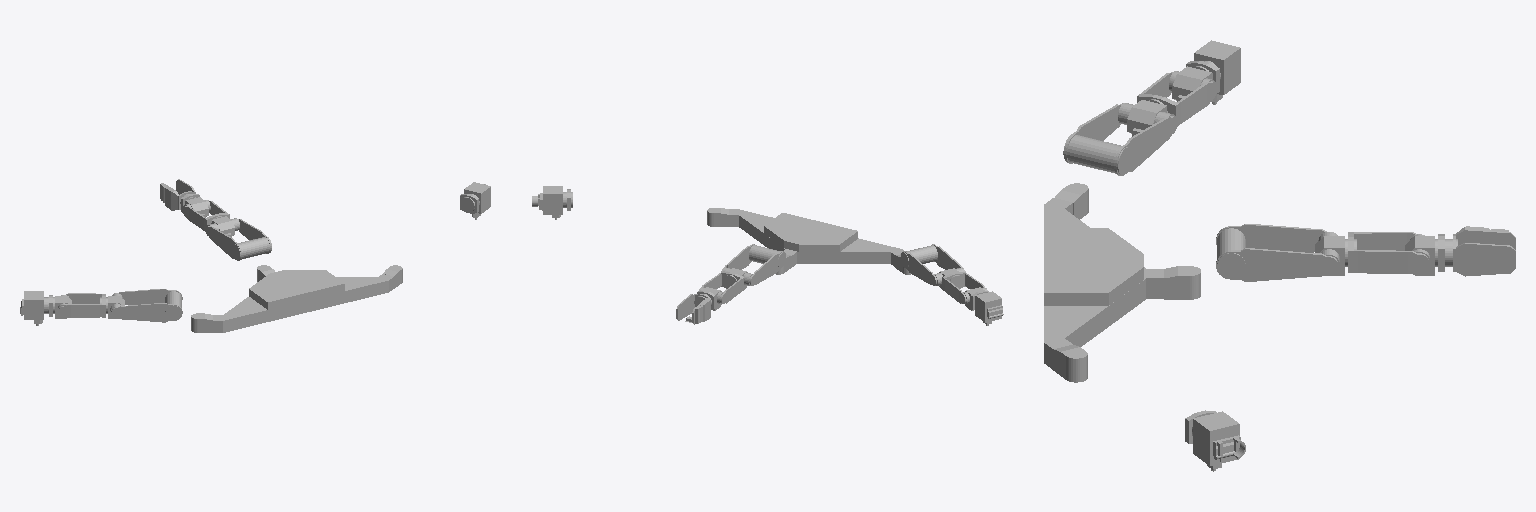
--- Render facts (derived) ---
3 views of the same robot in one strip: view 1: azimuth 30°, elevation 25°; view 2: azimuth 150°, elevation 25°; view 3: azimuth 270°, elevation 25° (orthographic).
Robot: TriATHLETE — 28 links, 27 joints (21 revolute, 6 prismatic); root link Body; default pose: all joints at 0.
Visible links, largest first — view 1: Body, Thigh3, Thigh2, Shin3, Foot3, Foot1, Foot2, Shin2; view 2: Body, Thigh2, Thigh3, Foot2, Foot1, Foot3, Shin3, Shin2; view 3: Body, Thigh2, Thigh3, Foot2, Shin2, Foot1, Foot3, Shin3, Knee3, Ankle3, Knee2, Ankle2.
Boxes of the visible links, x1,y1,x2,y2 form: Body: (191, 265, 402, 332); Thigh3: (111, 289, 182, 322); Thigh2: (205, 219, 271, 260); Shin3: (58, 293, 107, 317); Foot3: (20, 291, 54, 325); Foot1: (460, 182, 490, 219); Foot2: (160, 179, 199, 212); Shin2: (182, 200, 229, 231); Body: (707, 208, 910, 274); Thigh2: (721, 244, 785, 285); Thigh3: (900, 244, 965, 285); Foot2: (676, 291, 715, 324); Foot1: (539, 186, 572, 219); Foot3: (971, 291, 1003, 325); Shin3: (942, 272, 987, 303); Shin2: (699, 272, 743, 303); Body: (1044, 183, 1200, 382); Thigh2: (1216, 224, 1337, 281); Thigh3: (1063, 103, 1177, 175); Foot2: (1435, 226, 1515, 276); Shin2: (1345, 232, 1428, 273); Foot1: (1185, 410, 1240, 471); Foot3: (1186, 40, 1240, 104); Shin3: (1137, 72, 1217, 126); Knee3: (1118, 100, 1174, 136); Ankle3: (1169, 66, 1214, 101); Knee2: (1315, 232, 1344, 275); Ankle2: (1405, 234, 1434, 275).
Bounding box of the posed robot: 8.25 × 4.16 × 0.5767 m (x, y, z).
Meshes: 28 distinct files referenced, 16 mesh visuals loaded (16 binary STL); not drawn: 12 (reference not matched to a file when rendering).

The robot description file, URDF, robot "TriATHLETE":
<robot
  name="TriATHLETE">
  <link
    name="Body">
    <inertial>
      <origin
        xyz="0.00032761 0.38981 0.13484"
        rpy="0 0 0" />
      <mass
        value="69.465" />
      <inertia
        ixx="9.5472"
        ixy="-0.0060042"
        ixz="-0.00096273"
        iyy="61.245"
        iyz="-0.026122"
        izz="69.216" />
    </inertial>
    <visual>
      <origin
        xyz="0 0 0"
        rpy="0 0 0" />
      <geometry>
        <mesh
          filename="package://TriATHLETE/meshes/Body.STL" />
      </geometry>
      <material
        name="">
        <color
          rgba="0.75294 0.75294 0.75294 1" />
      </material>
    </visual>
    <collision>
      <origin
        xyz="0 0 0"
        rpy="0 0 0" />
      <geometry>
        <mesh
          filename="package://TriATHLETE/meshes/Body.STL" />
      </geometry>
    </collision>
  </link>
  <link
    name="Hip1">
    <inertial>
      <origin
        xyz="0.12059 0.04703 -0.043975"
        rpy="0 0 0" />
      <mass
        value="10.161" />
      <inertia
        ixx="0.69317"
        ixy="0.0073762"
        ixz="0.040711"
        iyy="0.34376"
        iyz="0.0014897"
        izz="0.9152" />
    </inertial>
    <visual>
      <origin
        xyz="0 0 0"
        rpy="0 0 0" />
      <geometry>
        <mesh
          filename="package://TriATHLETE/meshes/Hip1.STL" />
      </geometry>
      <material
        name="">
        <color
          rgba="0.75294 0.75294 0.75294 1" />
      </material>
    </visual>
    <collision>
      <origin
        xyz="0 0 0"
        rpy="0 0 0" />
      <geometry>
        <mesh
          filename="package://TriATHLETE/meshes/Hip1.STL" />
      </geometry>
    </collision>
  </link>
  <joint
    name="HY1"
    type="revolute">
    <origin
      xyz="1.7322 0.27849 0.41034"
      rpy="-3.257E-15 -6.0627E-15 0.5236" />
    <parent
      link="Body" />
    <child
      link="Hip1" />
    <axis
      xyz="0 0 1" />
    <limit
      lower="-3.1416"
      upper="3.1416"
      effort="0"
      velocity="0" />
  </joint>
  <link
    name="Thigh1">
    <inertial>
      <origin
        xyz="0.37052 1.2567E-08 -0.0016621"
        rpy="0 0 0" />
      <mass
        value="14.238" />
      <inertia
        ixx="1.0008"
        ixy="7.0442E-08"
        ixz="0.0087687"
        iyy="2.0253"
        iyz="-0.00024727"
        izz="1.3252" />
    </inertial>
    <visual>
      <origin
        xyz="0 0 0"
        rpy="0 0 0" />
      <geometry>
        <mesh
          filename="package://TriATHLETE/meshes/Thigh1.STL" />
      </geometry>
      <material
        name="">
        <color
          rgba="0.75294 0.75294 0.75294 1" />
      </material>
    </visual>
    <collision>
      <origin
        xyz="0 0 0"
        rpy="0 0 0" />
      <geometry>
        <mesh
          filename="package://TriATHLETE/meshes/Thigh1.STL" />
      </geometry>
    </collision>
  </link>
  <joint
    name="HP1"
    type="revolute">
    <origin
      xyz="0.36808 0 0"
      rpy="-1.5708 1.2759E-14 6.6613E-16" />
    <parent
      link="Hip1" />
    <child
      link="Thigh1" />
    <axis
      xyz="0 0 1" />
    <limit
      lower="-1.9199"
      upper="1.5708"
      effort="0"
      velocity="0" />
  </joint>
  <link
    name="Knee1">
    <inertial>
      <origin
        xyz="0.014835 -0.055529 0.0058012"
        rpy="0 0 0" />
      <mass
        value="6.9322" />
      <inertia
        ixx="0.16535"
        ixy="0.0071097"
        ixz="-0.0005908"
        iyy="0.14265"
        iyz="0.0022095"
        izz="0.11836" />
    </inertial>
    <visual>
      <origin
        xyz="0 0 0"
        rpy="0 0 0" />
      <geometry>
        <mesh
          filename="package://TriATHLETE/meshes/Knee1.STL" />
      </geometry>
      <material
        name="">
        <color
          rgba="0.75294 0.75294 0.75294 1" />
      </material>
    </visual>
    <collision>
      <origin
        xyz="0 0 0"
        rpy="0 0 0" />
      <geometry>
        <mesh
          filename="package://TriATHLETE/meshes/Knee1.STL" />
      </geometry>
    </collision>
  </link>
  <joint
    name="KP1"
    type="revolute">
    <origin
      xyz="0.8627 0 0"
      rpy="7.7716E-16 5.5497E-16 1.5708" />
    <parent
      link="Thigh1" />
    <child
      link="Knee1" />
    <axis
      xyz="0 0 1" />
    <limit
      lower="-1.9199"
      upper="3.1416"
      effort="0"
      velocity="0" />
  </joint>
  <link
    name="Shin1">
    <inertial>
      <origin
        xyz="2.2722E-06 1.9798E-05 0.38864"
        rpy="0 0 0" />
      <mass
        value="11.342" />
      <inertia
        ixx="0.80592"
        ixy="-0.0001612"
        ixz="-5.0691E-06"
        iyy="0.59356"
        iyz="-5.2897E-05"
        izz="0.3788" />
    </inertial>
    <visual>
      <origin
        xyz="0 0 0"
        rpy="0 0 0" />
      <geometry>
        <mesh
          filename="package://TriATHLETE/meshes/Shin1.STL" />
      </geometry>
      <material
        name="">
        <color
          rgba="0.75294 0.75294 0.75294 1" />
      </material>
    </visual>
    <collision>
      <origin
        xyz="0 0 0"
        rpy="0 0 0" />
      <geometry>
        <mesh
          filename="package://TriATHLETE/meshes/Shin1.STL" />
      </geometry>
    </collision>
  </link>
  <joint
    name="KR1"
    type="revolute">
    <origin
      xyz="0 0 0"
      rpy="1.5708 2.6218E-16 8.7503E-15" />
    <parent
      link="Knee1" />
    <child
      link="Shin1" />
    <axis
      xyz="0 0 1" />
    <limit
      lower="-3.1416"
      upper="3.1416"
      effort="0"
      velocity="0" />
  </joint>
  <link
    name="Ankle1">
    <inertial>
      <origin
        xyz="0.01649 -0.057475 0.0063572"
        rpy="0 0 0" />
      <mass
        value="6.2489" />
      <inertia
        ixx="0.13248"
        ixy="0.0072959"
        ixz="-0.00064928"
        iyy="0.11016"
        iyz="0.0023058"
        izz="0.1122" />
    </inertial>
    <visual>
      <origin
        xyz="0 0 0"
        rpy="0 0 0" />
      <geometry>
        <mesh
          filename="package://TriATHLETE/meshes/Ankle1.STL" />
      </geometry>
      <material
        name="">
        <color
          rgba="0.75294 0.75294 0.75294 1" />
      </material>
    </visual>
    <collision>
      <origin
        xyz="0 0 0"
        rpy="0 0 0" />
      <geometry>
        <mesh
          filename="package://TriATHLETE/meshes/Ankle1.STL" />
      </geometry>
    </collision>
  </link>
  <joint
    name="AP1"
    type="revolute">
    <origin
      xyz="0 0 0.79918"
      rpy="-1.5708 -1.5149E-15 2.7636E-16" />
    <parent
      link="Shin1" />
    <child
      link="Ankle1" />
    <axis
      xyz="0 0 1" />
    <limit
      lower="-2.0944"
      upper="2.0944"
      effort="0"
      velocity="0" />
  </joint>
  <link
    name="Foot1">
    <inertial>
      <origin
        xyz="0.55009 0.039493 0.39286"
        rpy="0 0 0" />
      <mass
        value="561.33" />
      <inertia
        ixx="35.475"
        ixy="0.68563"
        ixz="-0.40406"
        iyy="24.501"
        iyz="-2.4704"
        izz="32.003" />
    </inertial>
    <visual>
      <origin
        xyz="0 0 0"
        rpy="0 0 0" />
      <geometry>
        <mesh
          filename="package://TriATHLETE/meshes/Foot1.STL" />
      </geometry>
      <material
        name="">
        <color
          rgba="0.75294 0.75294 0.75294 1" />
      </material>
    </visual>
    <collision>
      <origin
        xyz="0 0 0"
        rpy="0 0 0" />
      <geometry>
        <mesh
          filename="package://TriATHLETE/meshes/Foot1.STL" />
      </geometry>
    </collision>
  </link>
  <joint
    name="AR1"
    type="revolute">
    <origin
      xyz="0 0 0"
      rpy="1.5708 7.4188E-16 1.3492E-16" />
    <parent
      link="Ankle1" />
    <child
      link="Foot1" />
    <axis
      xyz="0 0 1" />
    <limit
      lower="-3.1416"
      upper="3.1416"
      effort="0"
      velocity="0" />
  </joint>
  <link
    name="ToolCam1">
    <inertial>
      <origin
        xyz="0 -5.5511E-17 -0.059372"
        rpy="0 0 0" />
      <mass
        value="0.00060466" />
      <inertia
        ixx="8.1422E-07"
        ixy="4.178E-23"
        ixz="1.5882E-22"
        iyy="1.2351E-06"
        iyz="-1.3405E-22"
        izz="6.2829E-07" />
    </inertial>
    <visual>
      <origin
        xyz="0 0 0"
        rpy="0 0 0" />
      <geometry>
        <mesh
          filename="package://TriATHLETE/meshes/ToolCam1.STL" />
      </geometry>
      <material
        name="">
        <color
          rgba="0.75294 0.75294 0.75294 1" />
      </material>
    </visual>
    <collision>
      <origin
        xyz="0 0 0"
        rpy="0 0 0" />
      <geometry>
        <mesh
          filename="package://TriATHLETE/meshes/ToolCam1.STL" />
      </geometry>
    </collision>
  </link>
  <joint
    name="TCam1"
    type="revolute">
    <origin
      xyz="0.13569 0 0.60972"
      rpy="1.7997E-15 2.2204E-16 -1.5708" />
    <parent
      link="Foot1" />
    <child
      link="ToolCam1" />
    <axis
      xyz="-1 0 0" />
    <limit
      effort="0"
      velocity="0" />
  </joint>
  <link
    name="ToolClamp1A">
    <inertial>
      <origin
        xyz="-0.0033419 -4.4964E-15 0.054123"
        rpy="0 0 0" />
      <mass
        value="0.00064477" />
      <inertia
        ixx="2.5412E-06"
        ixy="6.1543E-21"
        ixz="-7.1857E-08"
        iyy="1.3569E-06"
        iyz="-9.8912E-20"
        izz="1.6609E-06" />
    </inertial>
    <visual>
      <origin
        xyz="0 0 0"
        rpy="0 0 0" />
      <geometry>
        <mesh
          filename="package://TriATHLETE/meshes/ToolClamp1A.STL" />
      </geometry>
      <material
        name="">
        <color
          rgba="0.75294 0.75294 0.75294 1" />
      </material>
    </visual>
    <collision>
      <origin
        xyz="0 0 0"
        rpy="0 0 0" />
      <geometry>
        <mesh
          filename="package://TriATHLETE/meshes/ToolClamp1A.STL" />
      </geometry>
    </collision>
  </link>
  <joint
    name="TC1A"
    type="prismatic">
    <origin
      xyz="0 0.082309 0.62909"
      rpy="1.8082E-15 -5.5511E-17 -1.5708" />
    <parent
      link="Foot1" />
    <child
      link="ToolClamp1A" />
    <axis
      xyz="1 0 0" />
    <limit
      effort="0"
      velocity="0" />
  </joint>
  <link
    name="ToolClamp1B">
    <inertial>
      <origin
        xyz="0.0033419 4.5519E-15 0.054123"
        rpy="0 0 0" />
      <mass
        value="0.00064477" />
      <inertia
        ixx="2.5412E-06"
        ixy="5.8962E-21"
        ixz="7.1857E-08"
        iyy="1.3569E-06"
        iyz="1.003E-19"
        izz="1.6609E-06" />
    </inertial>
    <visual>
      <origin
        xyz="0 0 0"
        rpy="0 0 0" />
      <geometry>
        <mesh
          filename="package://TriATHLETE/meshes/ToolClamp1B.STL" />
      </geometry>
      <material
        name="">
        <color
          rgba="0.75294 0.75294 0.75294 1" />
      </material>
    </visual>
    <collision>
      <origin
        xyz="0 0 0"
        rpy="0 0 0" />
      <geometry>
        <mesh
          filename="package://TriATHLETE/meshes/ToolClamp1B.STL" />
      </geometry>
    </collision>
  </link>
  <joint
    name="TC1B"
    type="prismatic">
    <origin
      xyz="0 -0.082309 0.62909"
      rpy="1.2378E-15 -3.3307E-16 -1.5708" />
    <parent
      link="Foot1" />
    <child
      link="ToolClamp1B" />
    <axis
      xyz="-1 0 0" />
    <limit
      effort="0"
      velocity="0" />
  </joint>
  <link
    name="Hip2">
    <inertial>
      <origin
        xyz="0.11762 0.052167 -0.043975"
        rpy="0 0 0" />
      <mass
        value="10.161" />
      <inertia
        ixx="0.69318"
        ixy="0.00738"
        ixz="0.040711"
        iyy="0.34375"
        iyz="0.0014912"
        izz="0.91521" />
    </inertial>
    <visual>
      <origin
        xyz="0 0 0"
        rpy="0 0 0" />
      <geometry>
        <mesh
          filename="package://TriATHLETE/meshes/Hip2.STL" />
      </geometry>
      <material
        name="">
        <color
          rgba="0.75294 0.75294 0.75294 1" />
      </material>
    </visual>
    <collision>
      <origin
        xyz="0 0 0"
        rpy="0 0 0" />
      <geometry>
        <mesh
          filename="package://TriATHLETE/meshes/Hip2.STL" />
      </geometry>
    </collision>
  </link>
  <joint
    name="HY2"
    type="revolute">
    <origin
      xyz="0.0051465 1.2815 0.41034"
      rpy="-2.8244E-15 -5.8129E-15 1.5708" />
    <parent
      link="Body" />
    <child
      link="Hip2" />
    <axis
      xyz="0 0 1" />
    <limit
      lower="-3.1416"
      upper="3.1416"
      effort="0"
      velocity="0" />
  </joint>
  <link
    name="Thigh2">
    <inertial>
      <origin
        xyz="0.36756 1.2571E-08 0.0034683"
        rpy="0 0 0" />
      <mass
        value="14.238" />
      <inertia
        ixx="1.0008"
        ixy="7.0917E-08"
        ixz="0.0088218"
        iyy="2.0253"
        iyz="-0.00024727"
        izz="1.3251" />
    </inertial>
    <visual>
      <origin
        xyz="0 0 0"
        rpy="0 0 0" />
      <geometry>
        <mesh
          filename="package://TriATHLETE/meshes/Thigh2.STL" />
      </geometry>
      <material
        name="">
        <color
          rgba="0.75294 0.75294 0.75294 1" />
      </material>
    </visual>
    <collision>
      <origin
        xyz="0 0 0"
        rpy="0 0 0" />
      <geometry>
        <mesh
          filename="package://TriATHLETE/meshes/Thigh2.STL" />
      </geometry>
    </collision>
  </link>
  <joint
    name="HP2"
    type="revolute">
    <origin
      xyz="0.36808 0 0"
      rpy="-1.5708 1.2724E-14 7.794E-16" />
    <parent
      link="Hip2" />
    <child
      link="Thigh2" />
    <axis
      xyz="0 0 1" />
    <limit
      lower="-1.9199"
      upper="1.5708"
      effort="0"
      velocity="0" />
  </joint>
  <link
    name="Knee2">
    <inertial>
      <origin
        xyz="0.014835 -0.052569 0.010929"
        rpy="0 0 0" />
      <mass
        value="6.9322" />
      <inertia
        ixx="0.16535"
        ixy="0.0071087"
        ixz="-0.00059243"
        iyy="0.14265"
        iyz="0.0022037"
        izz="0.11835" />
    </inertial>
    <visual>
      <origin
        xyz="0 0 0"
        rpy="0 0 0" />
      <geometry>
        <mesh
          filename="package://TriATHLETE/meshes/Knee2.STL" />
      </geometry>
      <material
        name="">
        <color
          rgba="0.75294 0.75294 0.75294 1" />
      </material>
    </visual>
    <collision>
      <origin
        xyz="0 0 0"
        rpy="0 0 0" />
      <geometry>
        <mesh
          filename="package://TriATHLETE/meshes/Knee2.STL" />
      </geometry>
    </collision>
  </link>
  <joint
    name="KP2"
    type="revolute">
    <origin
      xyz="0.8627 0 0"
      rpy="8.4954E-15 4.3895E-15 1.5708" />
    <parent
      link="Thigh2" />
    <child
      link="Knee2" />
    <axis
      xyz="0 0 1" />
    <limit
      lower="-1.9199"
      upper="3.1416"
      effort="0"
      velocity="0" />
  </joint>
  <link
    name="Shin2">
    <inertial>
      <origin
        xyz="2.2719E-06 0.0051584 0.38567"
        rpy="0 0 0" />
      <mass
        value="11.342" />
      <inertia
        ixx="0.80591"
        ixy="-0.0001612"
        ixz="-5.0685E-06"
        iyy="0.59355"
        iyz="-4.9846E-05"
        izz="0.3788" />
    </inertial>
    <visual>
      <origin
        xyz="0 0 0"
        rpy="0 0 0" />
      <geometry>
        <mesh
          filename="package://TriATHLETE/meshes/Shin2.STL" />
      </geometry>
      <material
        name="">
        <color
          rgba="0.75294 0.75294 0.75294 1" />
      </material>
    </visual>
    <collision>
      <origin
        xyz="0 0 0"
        rpy="0 0 0" />
      <geometry>
        <mesh
          filename="package://TriATHLETE/meshes/Shin2.STL" />
      </geometry>
    </collision>
  </link>
  <joint
    name="KR2"
    type="revolute">
    <origin
      xyz="0 0 0"
      rpy="1.5708 -3.5876E-15 -5.5998E-15" />
    <parent
      link="Knee2" />
    <child
      link="Shin2" />
    <axis
      xyz="0 0 1" />
    <limit
      lower="-3.1416"
      upper="3.1416"
      effort="0"
      velocity="0" />
  </joint>
  <link
    name="Ankle2">
    <inertial>
      <origin
        xyz="0.01649 -0.054514 0.011486"
        rpy="0 0 0" />
      <mass
        value="6.2489" />
      <inertia
        ixx="0.13248"
        ixy="0.0072949"
        ixz="-0.000651"
        iyy="0.11016"
        iyz="0.0023008"
        izz="0.1122" />
    </inertial>
    <visual>
      <origin
        xyz="0 0 0"
        rpy="0 0 0" />
      <geometry>
        <mesh
          filename="package://TriATHLETE/meshes/Ankle2.STL" />
      </geometry>
      <material
        name="">
        <color
          rgba="0.75294 0.75294 0.75294 1" />
      </material>
    </visual>
    <collision>
      <origin
        xyz="0 0 0"
        rpy="0 0 0" />
      <geometry>
        <mesh
          filename="package://TriATHLETE/meshes/Ankle2.STL" />
      </geometry>
    </collision>
  </link>
  <joint
    name="AP2"
    type="revolute">
    <origin
      xyz="0 0 0.79918"
      rpy="-1.5708 -1.5611E-15 2.5127E-16" />
    <parent
      link="Shin2" />
    <child
      link="Ankle2" />
    <axis
      xyz="0 0 1" />
    <limit
      lower="-2.0944"
      upper="2.0944"
      effort="0"
      velocity="0" />
  </joint>
  <link
    name="Foot2">
    <inertial>
      <origin
        xyz="0.55011 0.044802 0.38984"
        rpy="0 0 0" />
      <mass
        value="561.68" />
      <inertia
        ixx="35.523"
        ixy="0.68863"
        ixz="-0.40501"
        iyy="24.524"
        iyz="-2.4616"
        izz="32.029" />
    </inertial>
    <visual>
      <origin
        xyz="0 0 0"
        rpy="0 0 0" />
      <geometry>
        <mesh
          filename="package://TriATHLETE/meshes/Foot2.STL" />
      </geometry>
      <material
        name="">
        <color
          rgba="0.75294 0.75294 0.75294 1" />
      </material>
    </visual>
    <collision>
      <origin
        xyz="0 0 0"
        rpy="0 0 0" />
      <geometry>
        <mesh
          filename="package://TriATHLETE/meshes/Foot2.STL" />
      </geometry>
    </collision>
  </link>
  <joint
    name="AR2"
    type="revolute">
    <origin
      xyz="0 0 0"
      rpy="1.5708 7.1678E-16 1.811E-16" />
    <parent
      link="Ankle2" />
    <child
      link="Foot2" />
    <axis
      xyz="0 0 1" />
    <limit
      lower="-3.1416"
      upper="3.1416"
      effort="0"
      velocity="0" />
  </joint>
  <link
    name="ToolCam2">
    <inertial>
      <origin
        xyz="-8.6736E-19 0 -0.059372"
        rpy="0 0 0" />
      <mass
        value="0.00060466" />
      <inertia
        ixx="8.1422E-07"
        ixy="0"
        ixz="-5.2049E-23"
        iyy="1.2351E-06"
        iyz="2.2546E-23"
        izz="6.2829E-07" />
    </inertial>
    <visual>
      <origin
        xyz="0 0 0"
        rpy="0 0 0" />
      <geometry>
        <mesh
          filename="package://TriATHLETE/meshes/ToolCam2.STL" />
      </geometry>
      <material
        name="">
        <color
          rgba="0.75294 0.75294 0.75294 1" />
      </material>
    </visual>
    <collision>
      <origin
        xyz="0 0 0"
        rpy="0 0 0" />
      <geometry>
        <mesh
          filename="package://TriATHLETE/meshes/ToolCam2.STL" />
      </geometry>
    </collision>
  </link>
  <joint
    name="TCam2"
    type="revolute">
    <origin
      xyz="0.13569 0 0.60972"
      rpy="-6.9798E-15 6.8834E-15 -1.5708" />
    <parent
      link="Foot2" />
    <child
      link="ToolCam2" />
    <axis
      xyz="-1 0 0" />
    <limit
      effort="0"
      velocity="0" />
  </joint>
  <link
    name="ToolClamp2A">
    <inertial>
      <origin
        xyz="-0.0033419 -4.4964E-15 0.054123"
        rpy="0 0 0" />
      <mass
        value="0.00064477" />
      <inertia
        ixx="2.5412E-06"
        ixy="8.312E-21"
        ixz="-7.1857E-08"
        iyy="1.3569E-06"
        iyz="-9.7044E-20"
        izz="1.6609E-06" />
    </inertial>
    <visual>
      <origin
        xyz="0 0 0"
        rpy="0 0 0" />
      <geometry>
        <mesh
          filename="package://TriATHLETE/meshes/ToolClamp2A.STL" />
      </geometry>
      <material
        name="">
        <color
          rgba="0.75294 0.75294 0.75294 1" />
      </material>
    </visual>
    <collision>
      <origin
        xyz="0 0 0"
        rpy="0 0 0" />
      <geometry>
        <mesh
          filename="package://TriATHLETE/meshes/ToolClamp2A.STL" />
      </geometry>
    </collision>
  </link>
  <joint
    name="TC2A"
    type="prismatic">
    <origin
      xyz="0 0.082309 0.62909"
      rpy="-6.9798E-15 6.8834E-15 -1.5708" />
    <parent
      link="Foot2" />
    <child
      link="ToolClamp2A" />
    <axis
      xyz="1 0 0" />
    <limit
      effort="0"
      velocity="0" />
  </joint>
  <link
    name="ToolClamp2B">
    <inertial>
      <origin
        xyz="0.0033419 3.9968E-15 0.054123"
        rpy="0 0 0" />
      <mass
        value="0.00064477" />
      <inertia
        ixx="2.5412E-06"
        ixy="3.4497E-21"
        ixz="7.1857E-08"
        iyy="1.3569E-06"
        iyz="9.988E-20"
        izz="1.6609E-06" />
    </inertial>
    <visual>
      <origin
        xyz="0 0 0"
        rpy="0 0 0" />
      <geometry>
        <mesh
          filename="package://TriATHLETE/meshes/ToolClamp2B.STL" />
      </geometry>
      <material
        name="">
        <color
          rgba="0.75294 0.75294 0.75294 1" />
      </material>
    </visual>
    <collision>
      <origin
        xyz="0 0 0"
        rpy="0 0 0" />
      <geometry>
        <mesh
          filename="package://TriATHLETE/meshes/ToolClamp2B.STL" />
      </geometry>
    </collision>
  </link>
  <joint
    name="TC2B"
    type="prismatic">
    <origin
      xyz="0 -0.082309 0.62909"
      rpy="-6.9798E-15 6.8834E-15 -1.5708" />
    <parent
      link="Foot2" />
    <child
      link="ToolClamp2B" />
    <axis
      xyz="-1 0 0" />
    <limit
      effort="0"
      velocity="0" />
  </joint>
  <link
    name="Hip3">
    <inertial>
      <origin
        xyz="0.12059 0.057303 -0.043975"
        rpy="0 0 0" />
      <mass
        value="10.161" />
      <inertia
        ixx="0.69319"
        ixy="0.0073894"
        ixz="0.040711"
        iyy="0.34376"
        iyz="0.0014925"
        izz="0.91523" />
    </inertial>
    <visual>
      <origin
        xyz="0 0 0"
        rpy="0 0 0" />
      <geometry>
        <mesh
          filename="package://TriATHLETE/meshes/Hip3.STL" />
      </geometry>
      <material
        name="">
        <color
          rgba="0.75294 0.75294 0.75294 1" />
      </material>
    </visual>
    <collision>
      <origin
        xyz="0 0 0"
        rpy="0 0 0" />
      <geometry>
        <mesh
          filename="package://TriATHLETE/meshes/Hip3.STL" />
      </geometry>
    </collision>
  </link>
  <joint
    name="HY3"
    type="revolute">
    <origin
      xyz="-1.727 0.2874 0.41034"
      rpy="-2.3917E-15 -6.0627E-15 2.618" />
    <parent
      link="Body" />
    <child
      link="Hip3" />
    <axis
      xyz="0 0 1" />
    <limit
      lower="-3.1416"
      upper="3.1416"
      effort="0"
      velocity="0" />
  </joint>
  <link
    name="Thigh3">
    <inertial>
      <origin
        xyz="0.37052 1.2575E-08 0.0085988"
        rpy="0 0 0" />
      <mass
        value="14.238" />
      <inertia
        ixx="1.0008"
        ixy="7.0333E-08"
        ixz="0.0088758"
        iyy="2.0253"
        iyz="-0.00024727"
        izz="1.3252" />
    </inertial>
    <visual>
      <origin
        xyz="0 0 0"
        rpy="0 0 0" />
      <geometry>
        <mesh
          filename="package://TriATHLETE/meshes/Thigh3.STL" />
      </geometry>
      <material
        name="">
        <color
          rgba="0.75294 0.75294 0.75294 1" />
      </material>
    </visual>
    <collision>
      <origin
        xyz="0 0 0"
        rpy="0 0 0" />
      <geometry>
        <mesh
          filename="package://TriATHLETE/meshes/Thigh3.STL" />
      </geometry>
    </collision>
  </link>
  <joint
    name="HP3"
    type="revolute">
    <origin
      xyz="0.36808 0 0"
      rpy="-1.5708 1.2772E-14 7.7716E-16" />
    <parent
      link="Hip3" />
    <child
      link="Thigh3" />
    <axis
      xyz="0 0 1" />
    <limit
      lower="-1.9199"
      upper="1.5708"
      effort="0"
      velocity="0" />
  </joint>
  <link
    name="Knee3">
    <inertial>
      <origin
        xyz="0.014835 -0.055529 0.016058"
        rpy="0 0 0" />
      <mass
        value="6.9322" />
      <inertia
        ixx="0.16536"
        ixy="0.0071096"
        ixz="-0.00059406"
        iyy="0.14266"
        iyz="0.0021963"
        izz="0.11836" />
    </inertial>
    <visual>
      <origin
        xyz="0 0 0"
        rpy="0 0 0" />
      <geometry>
        <mesh
          filename="package://TriATHLETE/meshes/Knee3.STL" />
      </geometry>
      <material
        name="">
        <color
          rgba="0.75294 0.75294 0.75294 1" />
      </material>
    </visual>
    <collision>
      <origin
        xyz="0 0 0"
        rpy="0 0 0" />
      <geometry>
        <mesh
          filename="package://TriATHLETE/meshes/Knee3.STL" />
      </geometry>
    </collision>
  </link>
  <joint
    name="KP3"
    type="revolute">
    <origin
      xyz="0.8627 0 0"
      rpy="8.3267E-16 6.1564E-16 1.5708" />
    <parent
      link="Thigh3" />
    <child
      link="Knee3" />
    <axis
      xyz="0 0 1" />
    <limit
      lower="-1.9199"
      upper="3.1416"
      effort="0"
      velocity="0" />
  </joint>
  <link
    name="Shin3">
    <inertial>
      <origin
        xyz="2.2717E-06 0.010297 0.38864"
        rpy="0 0 0" />
      <mass
        value="11.342" />
      <inertia
        ixx="0.80592"
        ixy="-0.0001612"
        ixz="-5.0682E-06"
        iyy="0.59356"
        iyz="-4.6265E-05"
        izz="0.3788" />
    </inertial>
    <visual>
      <origin
        xyz="0 0 0"
        rpy="0 0 0" />
      <geometry>
        <mesh
          filename="package://TriATHLETE/meshes/Shin3.STL" />
      </geometry>
      <material
        name="">
        <color
          rgba="0.75294 0.75294 0.75294 1" />
      </material>
    </visual>
    <collision>
      <origin
        xyz="0 0 0"
        rpy="0 0 0" />
      <geometry>
        <mesh
          filename="package://TriATHLETE/meshes/Shin3.STL" />
      </geometry>
    </collision>
  </link>
  <joint
    name="KR3"
    type="revolute">
    <origin
      xyz="0 0 0"
      rpy="1.5708 3.7078E-17 8.6514E-15" />
    <parent
      link="Knee3" />
    <child
      link="Shin3" />
    <axis
      xyz="0 0 1" />
    <limit
      lower="-3.1416"
      upper="3.1416"
      effort="0"
      velocity="0" />
  </joint>
  <link
    name="Ankle3">
    <inertial>
      <origin
        xyz="0.01649 -0.057475 0.016615"
        rpy="0 0 0" />
      <mass
        value="6.2489" />
      <inertia
        ixx="0.13249"
        ixy="0.0072959"
        ixz="-0.00065273"
        iyy="0.11016"
        iyz="0.0022943"
        izz="0.1122" />
    </inertial>
    <visual>
      <origin
        xyz="0 0 0"
        rpy="0 0 0" />
      <geometry>
        <mesh
          filename="package://TriATHLETE/meshes/Ankle3.STL" />
      </geometry>
      <material
        name="">
        <color
          rgba="0.75294 0.75294 0.75294 1" />
      </material>
    </visual>
    <collision>
      <origin
        xyz="0 0 0"
        rpy="0 0 0" />
      <geometry>
        <mesh
          filename="package://TriATHLETE/meshes/Ankle3.STL" />
      </geometry>
    </collision>
  </link>
  <joint
    name="AP3"
    type="revolute">
    <origin
      xyz="0 0 0.79918"
      rpy="-1.5708 -1.4518E-15 5.062E-17" />
    <parent
      link="Shin3" />
    <child
      link="Ankle3" />
    <axis
      xyz="0 0 1" />
    <limit
      lower="-2.0944"
      upper="2.0944"
      effort="0"
      velocity="0" />
  </joint>
  <link
    name="Foot3">
    <inertial>
      <origin
        xyz="0.55009 0.049785 0.39286"
        rpy="0 0 0" />
      <mass
        value="561.33" />
      <inertia
        ixx="35.476"
        ixy="0.68591"
        ixz="-0.40405"
        iyy="24.501"
        iyz="-2.4704"
        izz="32.003" />
    </inertial>
    <visual>
      <origin
        xyz="0 0 0"
        rpy="0 0 0" />
      <geometry>
        <mesh
          filename="package://TriATHLETE/meshes/Foot3.STL" />
      </geometry>
      <material
        name="">
        <color
          rgba="0.75294 0.75294 0.75294 1" />
      </material>
    </visual>
    <collision>
      <origin
        xyz="0 0 0"
        rpy="0 0 0" />
      <geometry>
        <mesh
          filename="package://TriATHLETE/meshes/Foot3.STL" />
      </geometry>
    </collision>
  </link>
  <joint
    name="AR3"
    type="revolute">
    <origin
      xyz="0 0 0"
      rpy="1.5708 7.7376E-16 1.4621E-16" />
    <parent
      link="Ankle3" />
    <child
      link="Foot3" />
    <axis
      xyz="0 0 1" />
    <limit
      lower="-3.1416"
      upper="3.1416"
      effort="0"
      velocity="0" />
  </joint>
  <link
    name="ToolCam3">
    <inertial>
      <origin
        xyz="-4.4409E-16 2.7756E-17 -0.059372"
        rpy="0 0 0" />
      <mass
        value="0.00060466" />
      <inertia
        ixx="8.1422E-07"
        ixy="1.1599E-23"
        ixz="-9.5291E-22"
        iyy="1.2351E-06"
        iyz="3.5438E-24"
        izz="6.2829E-07" />
    </inertial>
    <visual>
      <origin
        xyz="0 0 0"
        rpy="0 0 0" />
      <geometry>
        <mesh
          filename="package://TriATHLETE/meshes/ToolCam3.STL" />
      </geometry>
      <material
        name="">
        <color
          rgba="0.75294 0.75294 0.75294 1" />
      </material>
    </visual>
    <collision>
      <origin
        xyz="0 0 0"
        rpy="0 0 0" />
      <geometry>
        <mesh
          filename="package://TriATHLETE/meshes/ToolCam3.STL" />
      </geometry>
    </collision>
  </link>
  <joint
    name="TCam3"
    type="revolute">
    <origin
      xyz="0.13569 0 0.60972"
      rpy="1.7753E-15 3.3307E-16 -1.5708" />
    <parent
      link="Foot3" />
    <child
      link="ToolCam3" />
    <axis
      xyz="-1 0 0" />
    <limit
      effort="0"
      velocity="0" />
  </joint>
  <link
    name="ToolClamp3A">
    <inertial>
      <origin
        xyz="-0.0033419 -4.3854E-15 0.054123"
        rpy="0 0 0" />
      <mass
        value="0.00064477" />
      <inertia
        ixx="2.5412E-06"
        ixy="1.0269E-20"
        ixz="-7.1857E-08"
        iyy="1.3569E-06"
        iyz="-9.5455E-20"
        izz="1.6609E-06" />
    </inertial>
    <visual>
      <origin
        xyz="0 0 0"
        rpy="0 0 0" />
      <geometry>
        <mesh
          filename="package://TriATHLETE/meshes/ToolClamp3A.STL" />
      </geometry>
      <material
        name="">
        <color
          rgba="0.75294 0.75294 0.75294 1" />
      </material>
    </visual>
    <collision>
      <origin
        xyz="0 0 0"
        rpy="0 0 0" />
      <geometry>
        <mesh
          filename="package://TriATHLETE/meshes/ToolClamp3A.STL" />
      </geometry>
    </collision>
  </link>
  <joint
    name="TC3A"
    type="prismatic">
    <origin
      xyz="0 0.082309 0.62909"
      rpy="1.7838E-15 5.5511E-17 -1.5708" />
    <parent
      link="Foot3" />
    <child
      link="ToolClamp3A" />
    <axis
      xyz="1 0 0" />
    <limit
      effort="0"
      velocity="0" />
  </joint>
  <link
    name="ToolClamp3B">
    <inertial>
      <origin
        xyz="0.0033419 4.5519E-15 0.054123"
        rpy="0 0 0" />
      <mass
        value="0.00064477" />
      <inertia
        ixx="2.5412E-06"
        ixy="7.7055E-21"
        ixz="7.1857E-08"
        iyy="1.3569E-06"
        iyz="9.7572E-20"
        izz="1.6609E-06" />
    </inertial>
    <visual>
      <origin
        xyz="0 0 0"
        rpy="0 0 0" />
      <geometry>
        <mesh
          filename="package://TriATHLETE/meshes/ToolClamp3B.STL" />
      </geometry>
      <material
        name="">
        <color
          rgba="0.75294 0.75294 0.75294 1" />
      </material>
    </visual>
    <collision>
      <origin
        xyz="0 0 0"
        rpy="0 0 0" />
      <geometry>
        <mesh
          filename="package://TriATHLETE/meshes/ToolClamp3B.STL" />
      </geometry>
    </collision>
  </link>
  <joint
    name="TC3B"
    type="prismatic">
    <origin
      xyz="0 -0.082309 0.62909"
      rpy="1.2134E-15 -1.6653E-16 -1.5708" />
    <parent
      link="Foot3" />
    <child
      link="ToolClamp3B" />
    <axis
      xyz="-1 0 0" />
    <limit
      effort="0"
      velocity="0" />
  </joint>
</robot>
